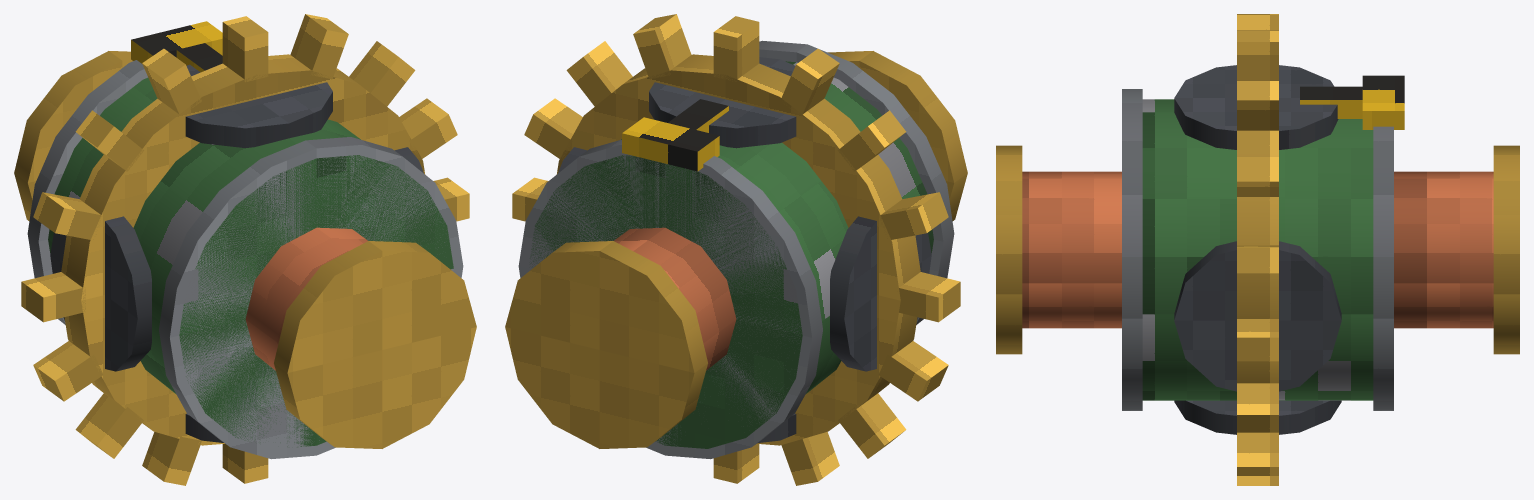
Rendered from mechanical_pump.obj.
3 views of the same model, side by side, from view 1: azimuth 30°, elevation 25°; view 2: azimuth 150°, elevation 25°; view 3: azimuth 270°, elevation 25° (orthographic). The views are drawn at different scales.
Bounding box in the file's own units: 0.9 × 0.9 × 1.
